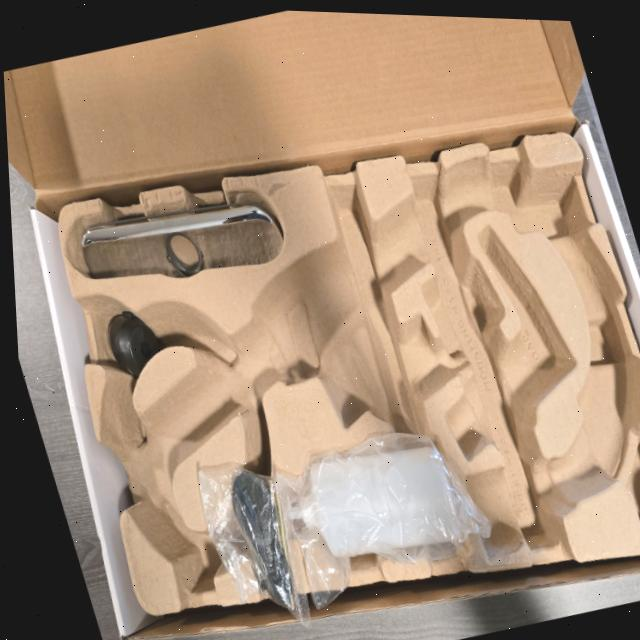1m: (102, 160, 637, 559)
2m: (444, 224, 575, 459)
3o: (277, 442, 463, 556)
4: (82, 205, 282, 279)
5: (107, 314, 154, 372)
6m: (148, 497, 218, 585)
7: (194, 463, 311, 626)
